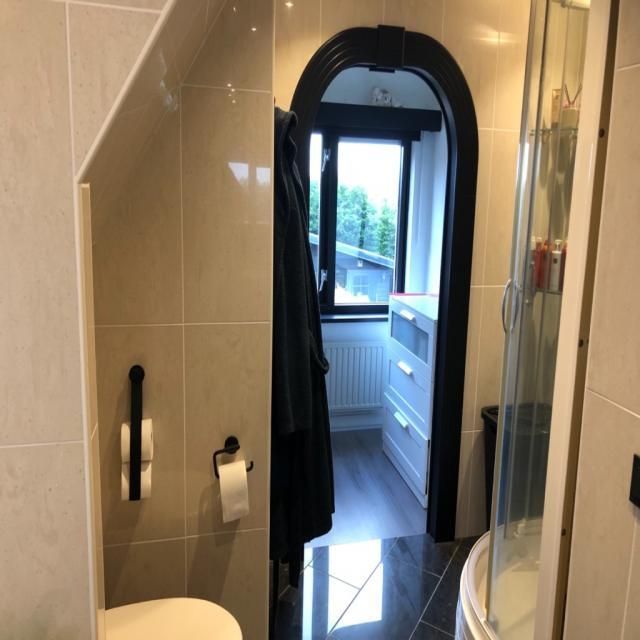douche: (455, 0, 612, 640)
toilet: (105, 597, 243, 640)
